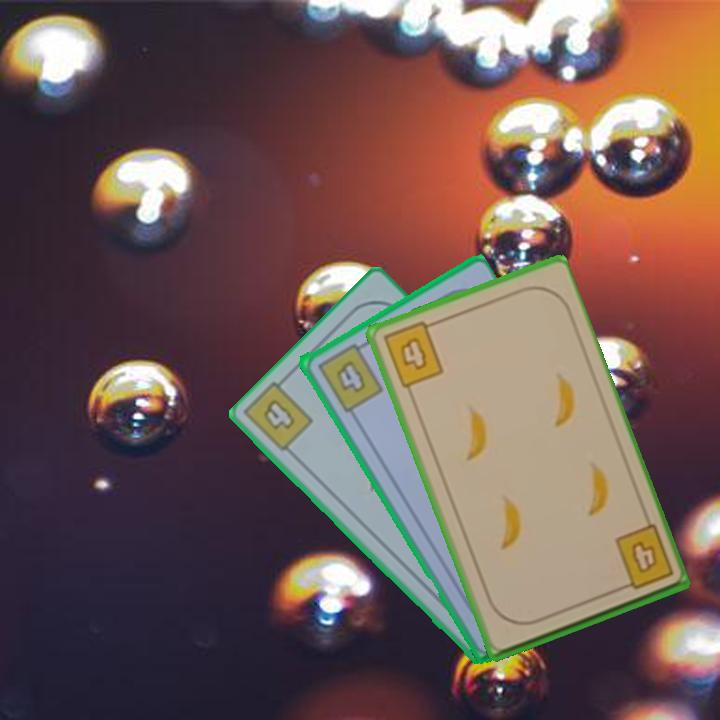4b: (313, 337, 385, 415), (379, 317, 446, 391), (610, 521, 676, 594), (259, 395, 298, 433)
